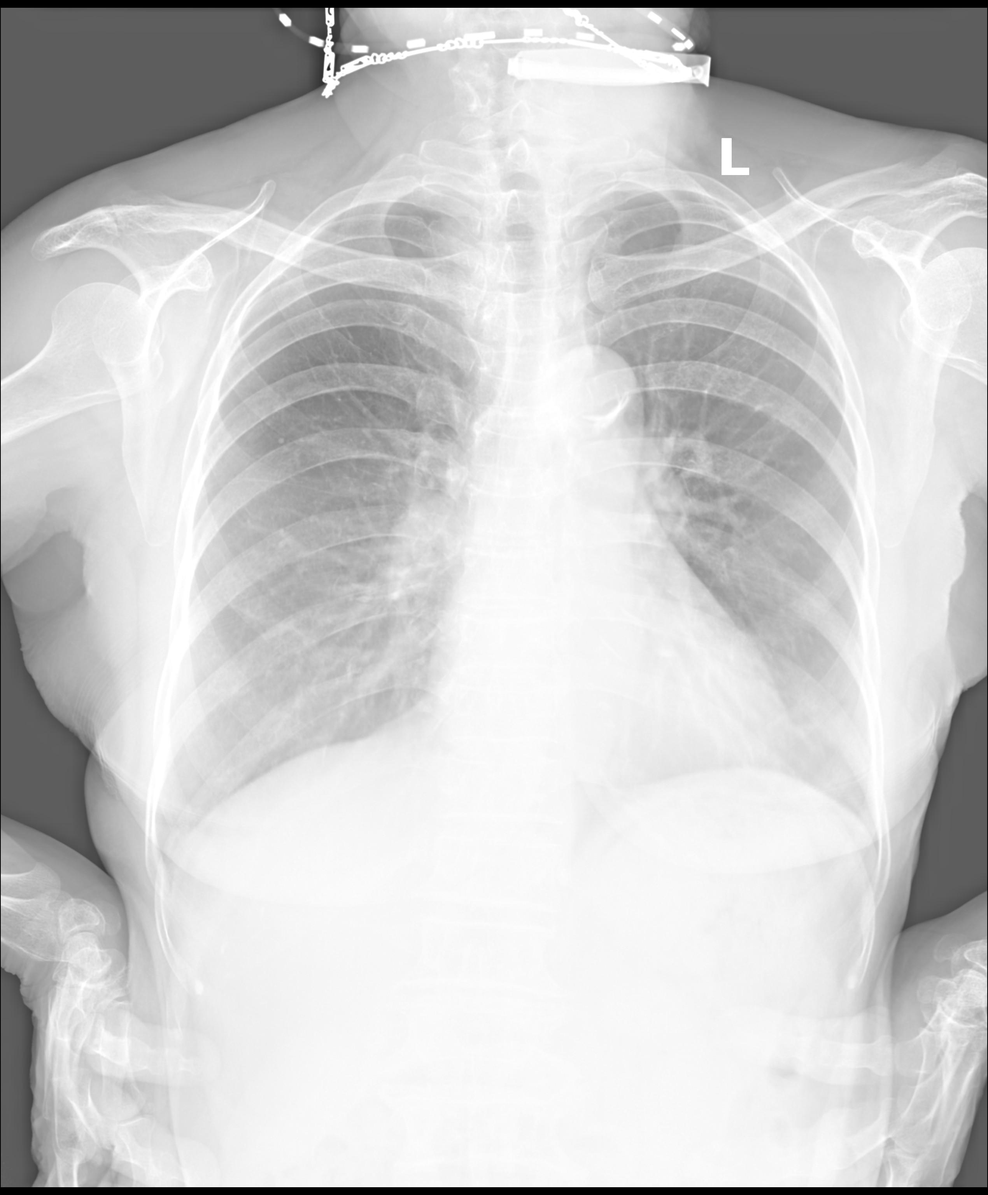Aortic enlargement: (531, 341, 645, 457)
Cardiomegaly: (419, 650, 806, 784)
